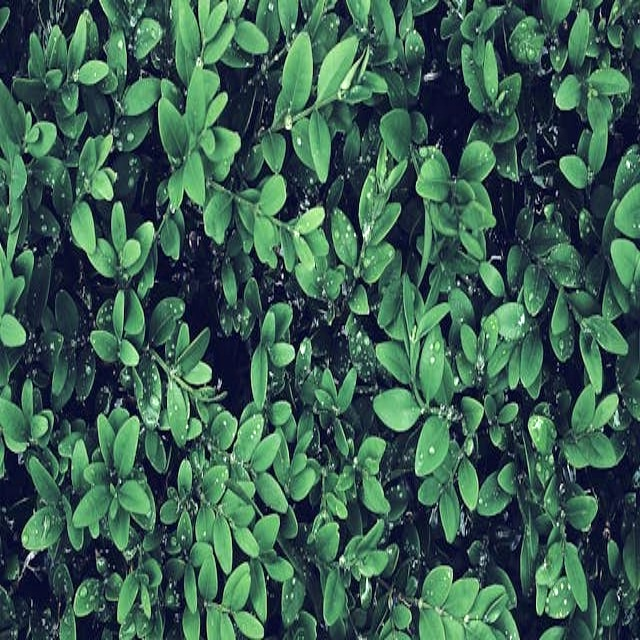algae_bloom: (0, 0, 640, 640)
clean_water: (13, 13, 627, 627)
